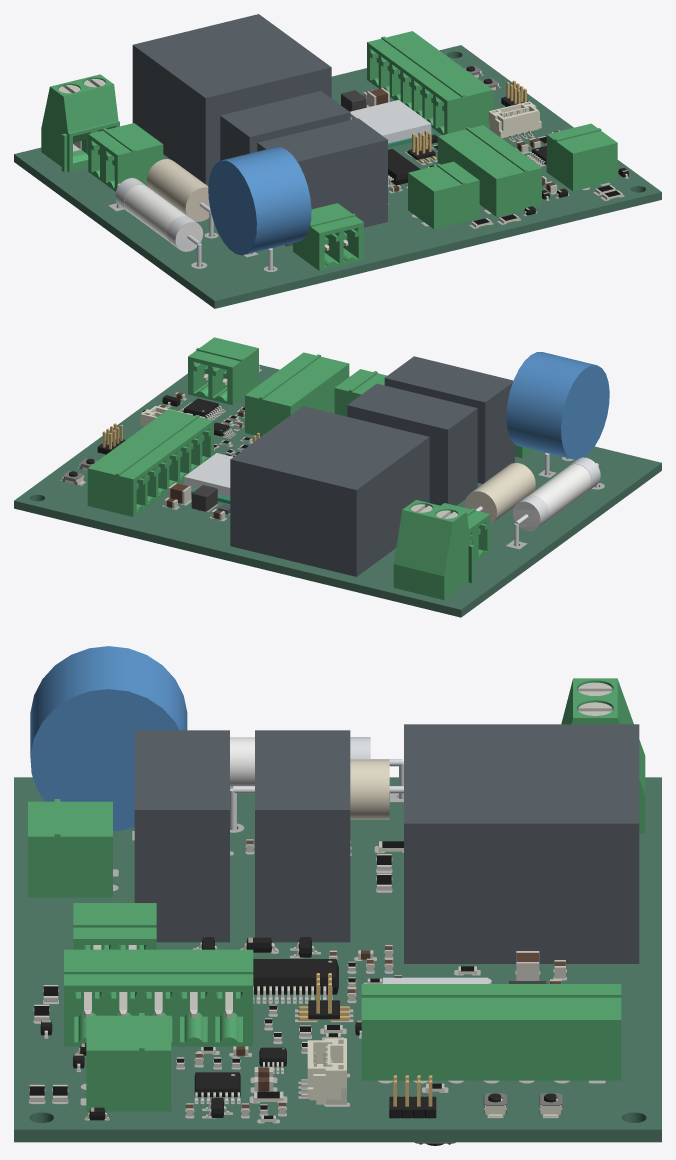
The model's file is pump-controller-rev-c.glb.
The picture shows the model from 3 angles, top to bottom: view 1: azimuth 30°, elevation 25°; view 2: azimuth 150°, elevation 25°; view 3: azimuth 270°, elevation 25°; orthographic projection. The views are drawn at different scales.
Visible parts, largest first — view 1: =>[0:1:1:133], =>[0:1:1:69], =>[0:1:1:21] (×2), =>[0:1:1:53] (×3), =>[0:1:1:77], =>[0:1:1:75], =>[0:1:1:57], =>[0:1:1:19], =>[0:1:1:9], =>[0:1:1:29], =>[0:1:1:43], =>[0:1:1:12] (+7 smaller); view 2: =>[0:1:1:69], =>[0:1:1:133], =>[0:1:1:21] (×2), =>[0:1:1:77], =>[0:1:1:75], =>[0:1:1:19], =>[0:1:1:53] (×2), =>[0:1:1:57], =>[0:1:1:29], =>[0:1:1:43], =>[0:1:1:12], =>[0:1:1:9] (+5 smaller); view 3: =>[0:1:1:133], =>[0:1:1:69], =>[0:1:1:21] (×2), =>[0:1:1:75], =>[0:1:1:53] (×3), =>[0:1:1:77], =>[0:1:1:57], =>[0:1:1:132], =>[0:1:1:19], =>[0:1:1:41], =>[0:1:1:81], =>[0:1:1:29] (+6 smaller).
Part boxes in pixels (<box>): =>[0:1:1:133]: <box>14,45,661,308</box>; =>[0:1:1:69]: <box>132,14,331,184</box>; =>[0:1:1:21] (×2): <box>220,91,387,246</box>; =>[0:1:1:53] (×3): <box>293,123,617,270</box>; =>[0:1:1:77]: <box>208,147,311,255</box>; =>[0:1:1:75]: <box>367,31,493,134</box>; =>[0:1:1:57]: <box>437,125,541,216</box>; =>[0:1:1:19]: <box>41,74,119,172</box>; =>[0:1:1:9]: <box>88,123,163,191</box>; =>[0:1:1:29]: <box>147,159,209,221</box>; =>[0:1:1:43]: <box>124,184,202,251</box>; =>[0:1:1:12]: <box>350,100,431,143</box>; =>[0:1:1:69]: <box>230,406,429,576</box>; =>[0:1:1:133]: <box>14,364,661,617</box>; =>[0:1:1:21] (×2): <box>347,356,514,505</box>; =>[0:1:1:77]: <box>506,352,609,459</box>; =>[0:1:1:75]: <box>87,409,213,516</box>; =>[0:1:1:19]: <box>393,500,474,599</box>; =>[0:1:1:53] (×2): <box>188,337,386,416</box>; =>[0:1:1:57]: <box>245,352,349,436</box>; =>[0:1:1:29]: <box>465,462,535,523</box>; =>[0:1:1:43]: <box>513,464,591,530</box>; =>[0:1:1:12]: <box>184,453,232,496</box>; =>[0:1:1:9]: <box>441,503,490,562</box>; =>[0:1:1:133]: <box>14,777,661,1142</box>; =>[0:1:1:69]: <box>404,724,639,963</box>; =>[0:1:1:21] (×2): <box>134,730,350,942</box>; =>[0:1:1:75]: <box>361,984,621,1080</box>; =>[0:1:1:53] (×3): <box>28,799,171,1111</box>; =>[0:1:1:77]: <box>30,646,187,830</box>; =>[0:1:1:57]: <box>64,949,253,1046</box>; =>[0:1:1:132]: <box>29,793,605,1123</box>; =>[0:1:1:19]: <box>561,678,645,833</box>; =>[0:1:1:41]: <box>253,959,338,1001</box>; =>[0:1:1:81]: <box>301,1038,346,1104</box>; =>[0:1:1:29]: <box>350,759,389,819</box>.
Size of the model in its own units: 0.09 by 0.0267 by 0.07.
